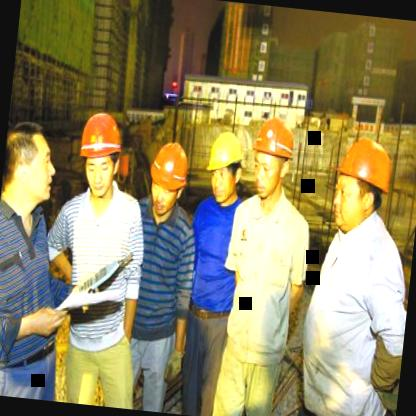helmet: (328, 137, 395, 235), (246, 115, 296, 203), (74, 110, 124, 198), (144, 138, 192, 218), (204, 128, 247, 204)
